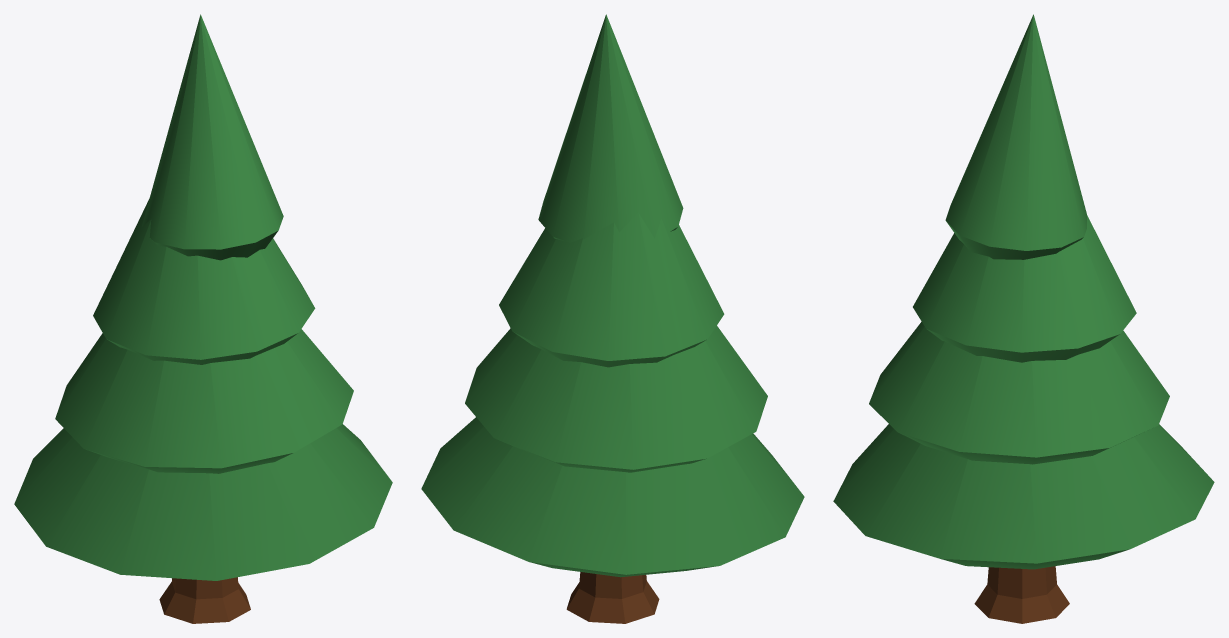
Rendered from p_tree_pine_2.glb.
3 views of the same model, side by side, from view 1: azimuth 30°, elevation 25°; view 2: azimuth 150°, elevation 25°; view 3: azimuth 270°, elevation 25° (orthographic).
Visible parts, largest first — view 1: body; view 2: body; view 3: body.
Boxes of the visible parts, x1=… form: body: x1=14, y1=14, x2=392, y2=623; body: x1=421, y1=14, x2=804, y2=623; body: x1=833, y1=14, x2=1214, y2=623.
Size of the model in its own units: 3.35 by 5.72 by 3.35.
